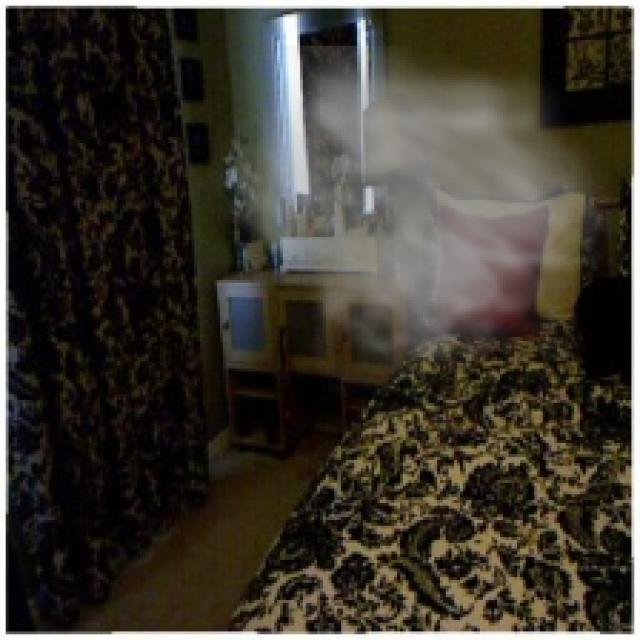smoke: (206, 46, 628, 400)
